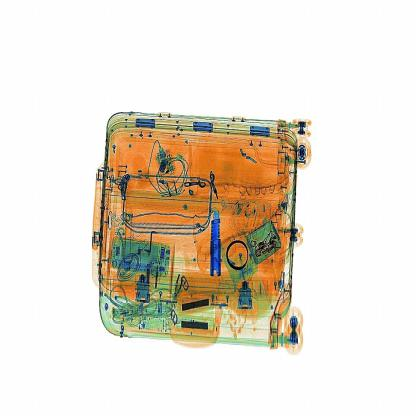pliers: (203, 203, 231, 271)
